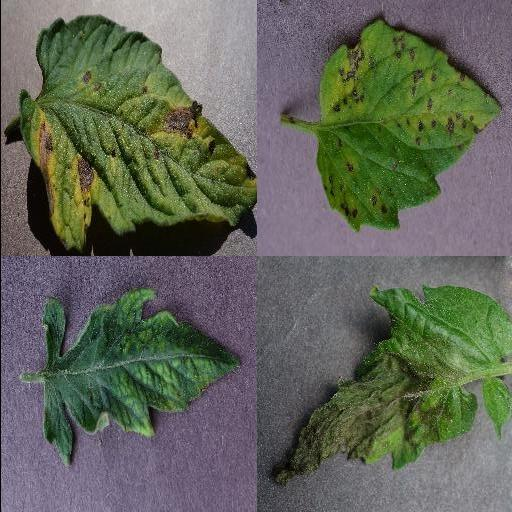Early Blight: (18, 13, 256, 253)
Late Blight: (272, 285, 512, 489)
Mosaic Virus: (37, 288, 241, 468)
Septoria: (315, 20, 501, 232)
